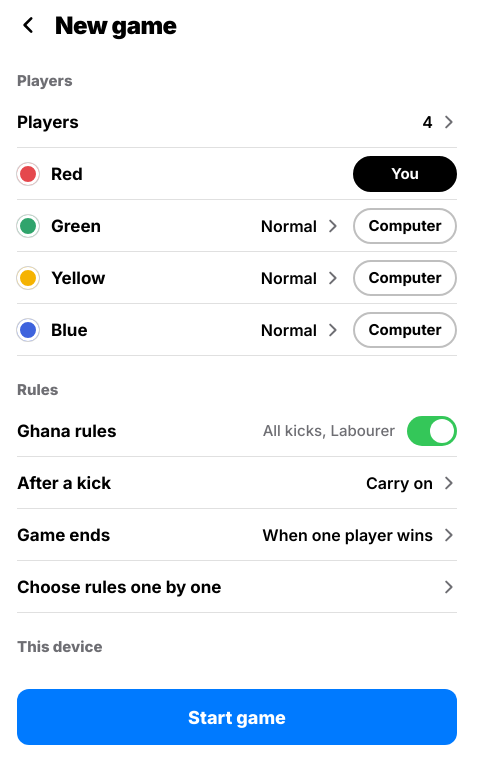
Test case: Setup › seats › switch between a person and the computer; the first person is You
Later steps or results of the test are not shown.
Click the button with aria-label "Red player: You".
click(405, 174)  # box [353,156,457,192]
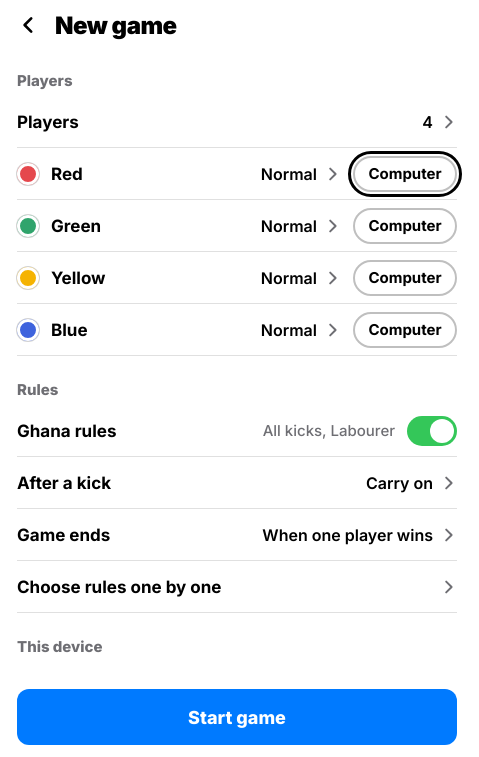
Click the button with aria-label "Green player: Computer".
click(405, 226)  # box [353,208,457,244]
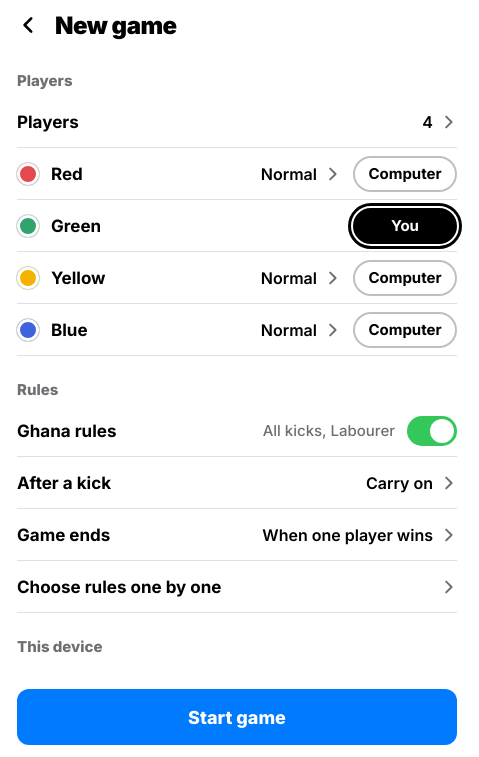
Click the button with aria-label "Blue player: Computer".
click(405, 330)  # box [353,312,457,348]
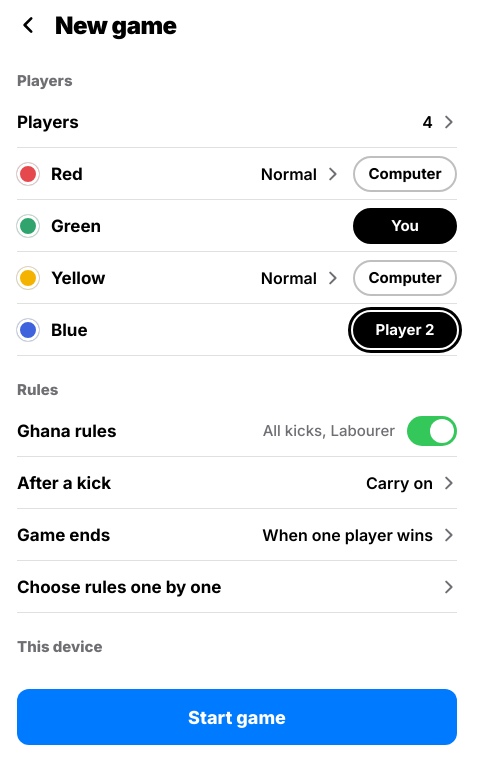
expect the button with aria-label "Red player: Computer" reads "Computer": met, box [353,156,457,192]
expect the button with aria-label "Green player: You" reads "You": met, box [353,208,457,244]
expect the button with aria-label "Blue player: Player 2" reads "Player 2": met, box [353,312,457,348]
